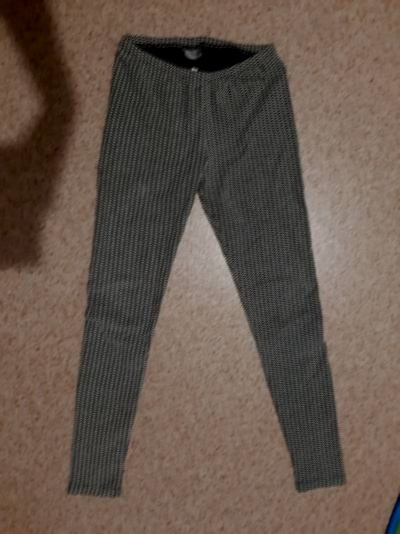Pants: (56, 33, 340, 512)
